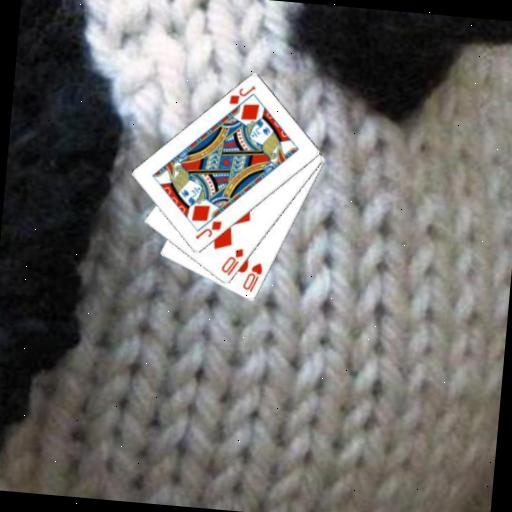10D: (218, 244, 246, 279)
10H: (239, 258, 265, 294)
JD: (192, 215, 224, 243), (226, 80, 258, 108)
